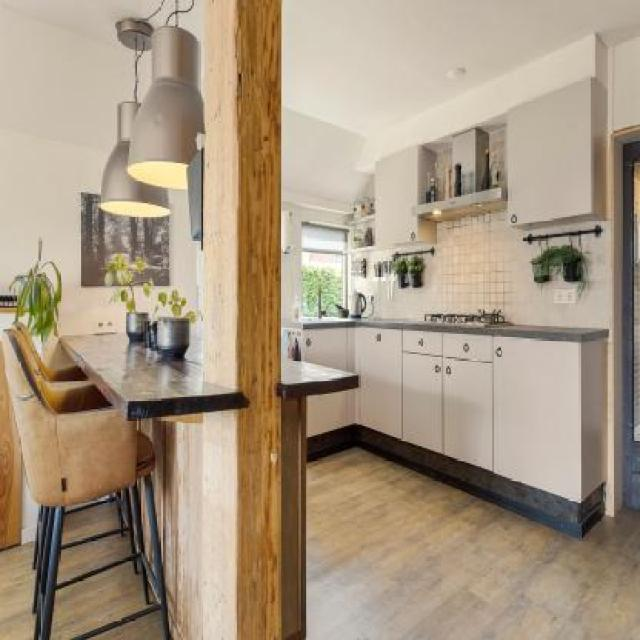floor: (307, 444, 640, 640), (57, 567, 143, 638), (0, 538, 36, 639), (63, 534, 129, 578), (64, 497, 115, 543), (95, 613, 170, 640)
